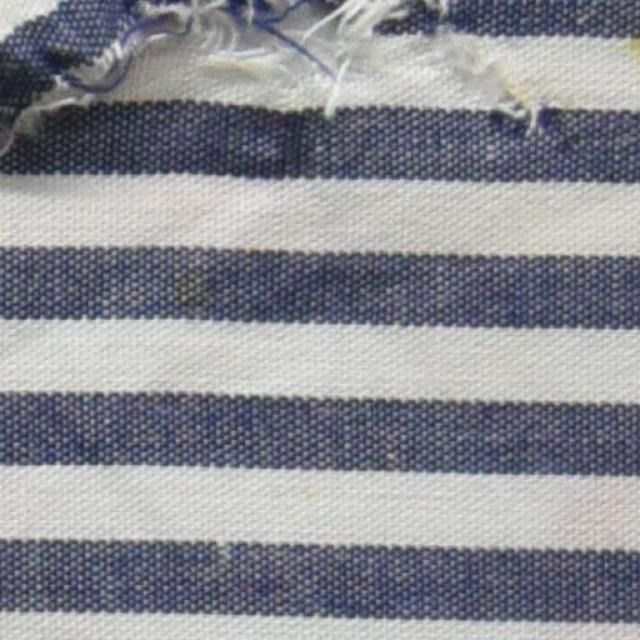cut: (0, 0, 551, 129)
